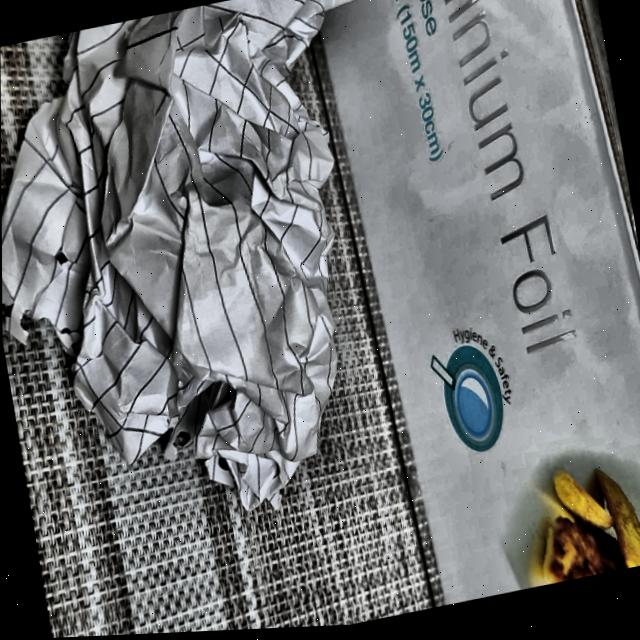paper: (0, 0, 385, 538)
